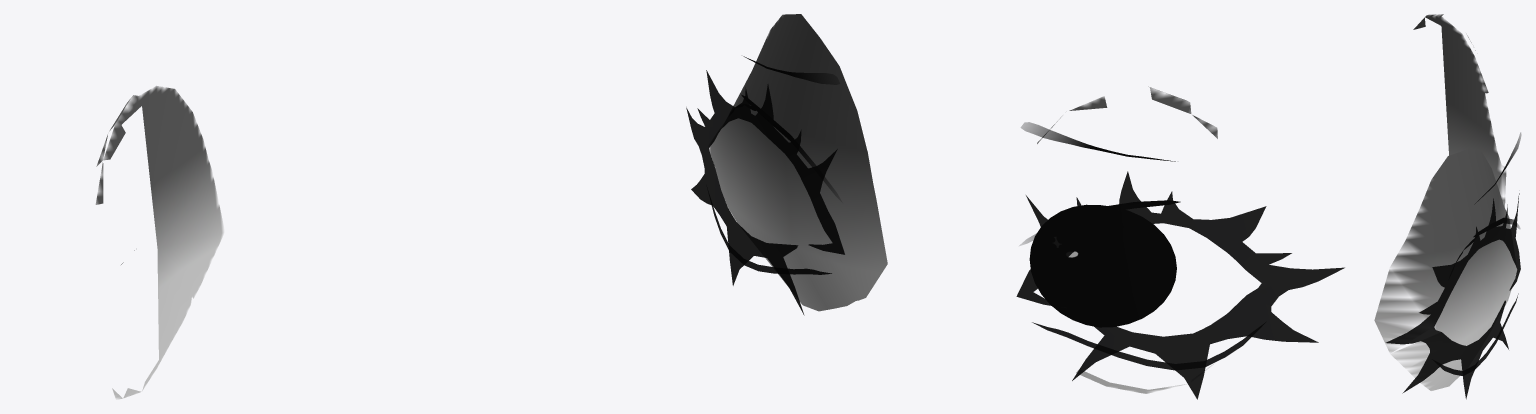
Rendered from 30-vkei-emo-side-eye-moody-face-eyes.glb.
3 renders of one model, left to right at view 1: azimuth 30°, elevation 25°; view 2: azimuth 150°, elevation 25°; view 3: azimuth 270°, elevation 25°, orthographic. The views are drawn at different scales.
Parts seen in each view (by area): view 1: 30-vkei-emo-side-eye-moody-face-eyes; view 2: 30-vkei-emo-side-eye-moody-face-eyes; view 3: 30-vkei-emo-side-eye-moody-face-eyes.
Boxes of the visible parts, x1,y1,x2,y2 form: 30-vkei-emo-side-eye-moody-face-eyes: (95,86,223,399); 30-vkei-emo-side-eye-moody-face-eyes: (686,14,1344,399); 30-vkei-emo-side-eye-moody-face-eyes: (1374,14,1521,399).
Size of the model in its own units: 0.9204 by 0.4092 by 0.2232.
Materials: 11 (11 with a texture image).
